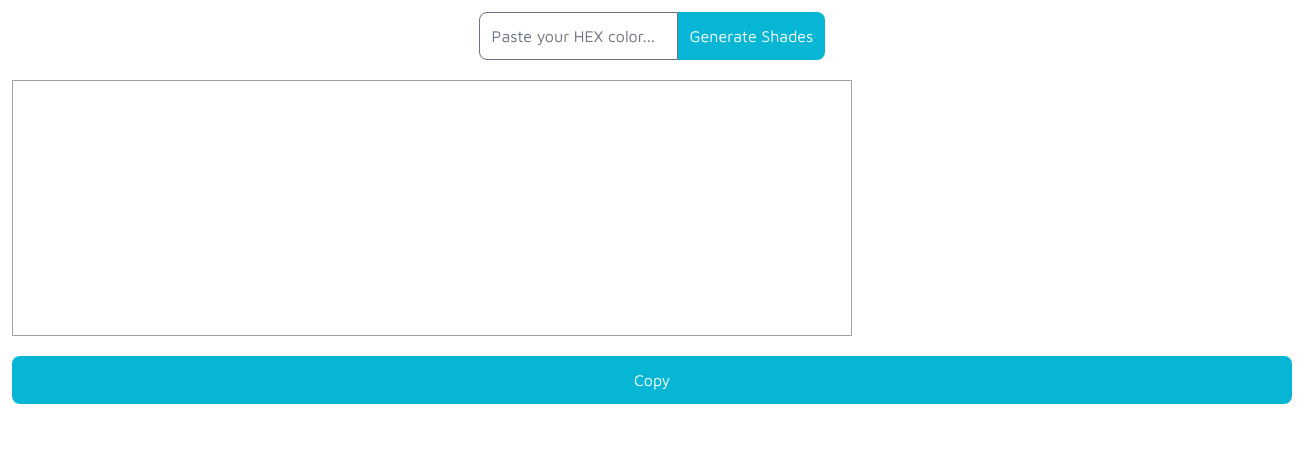
Scenario: SingleColorForm › can display an error when an invalid color is provided
This screenshot has width=1304, height=465.
Type "Invalid Color" into the field with placeholder "Paste your HEX color...".
click(578, 36); type("Invalid Color")  # box x1=479 y1=12 x2=678 y2=60
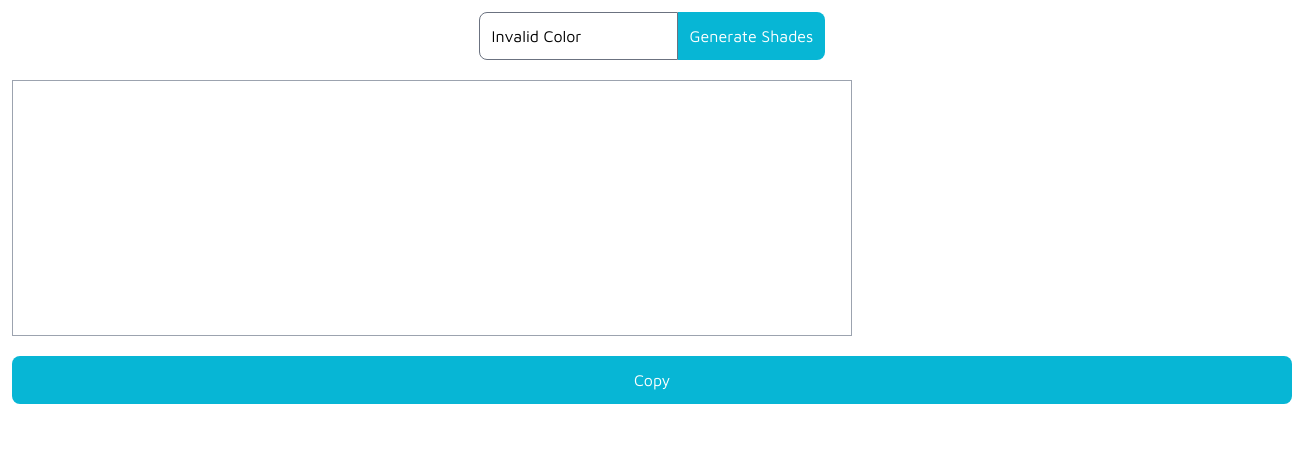
Click the button with id "generate-button".
click(752, 36)  # box x1=678 y1=12 x2=825 y2=60
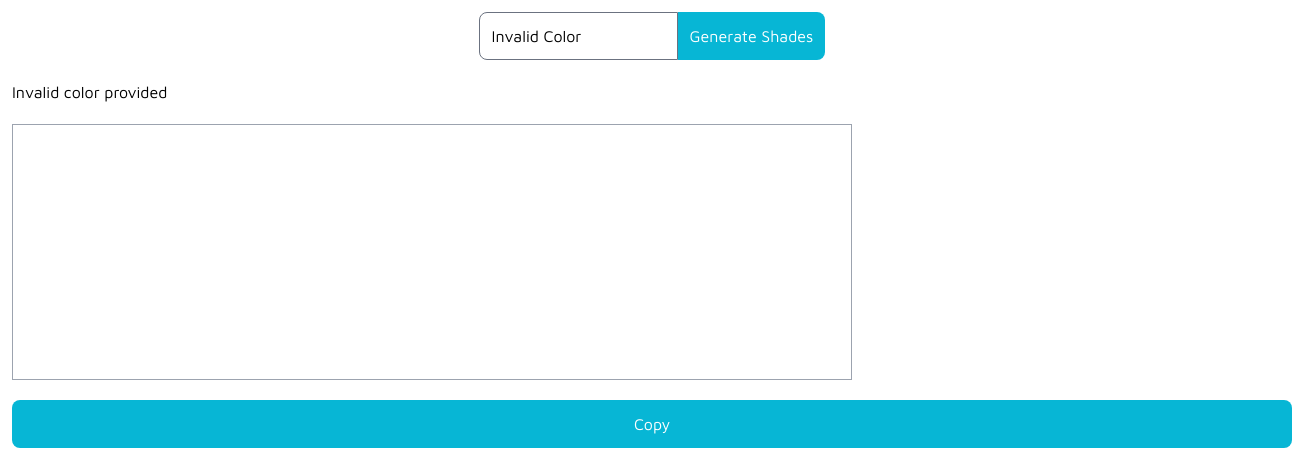
expect the text "Invalid color provided" is shown: met, box x1=12 y1=83 x2=167 y2=101
